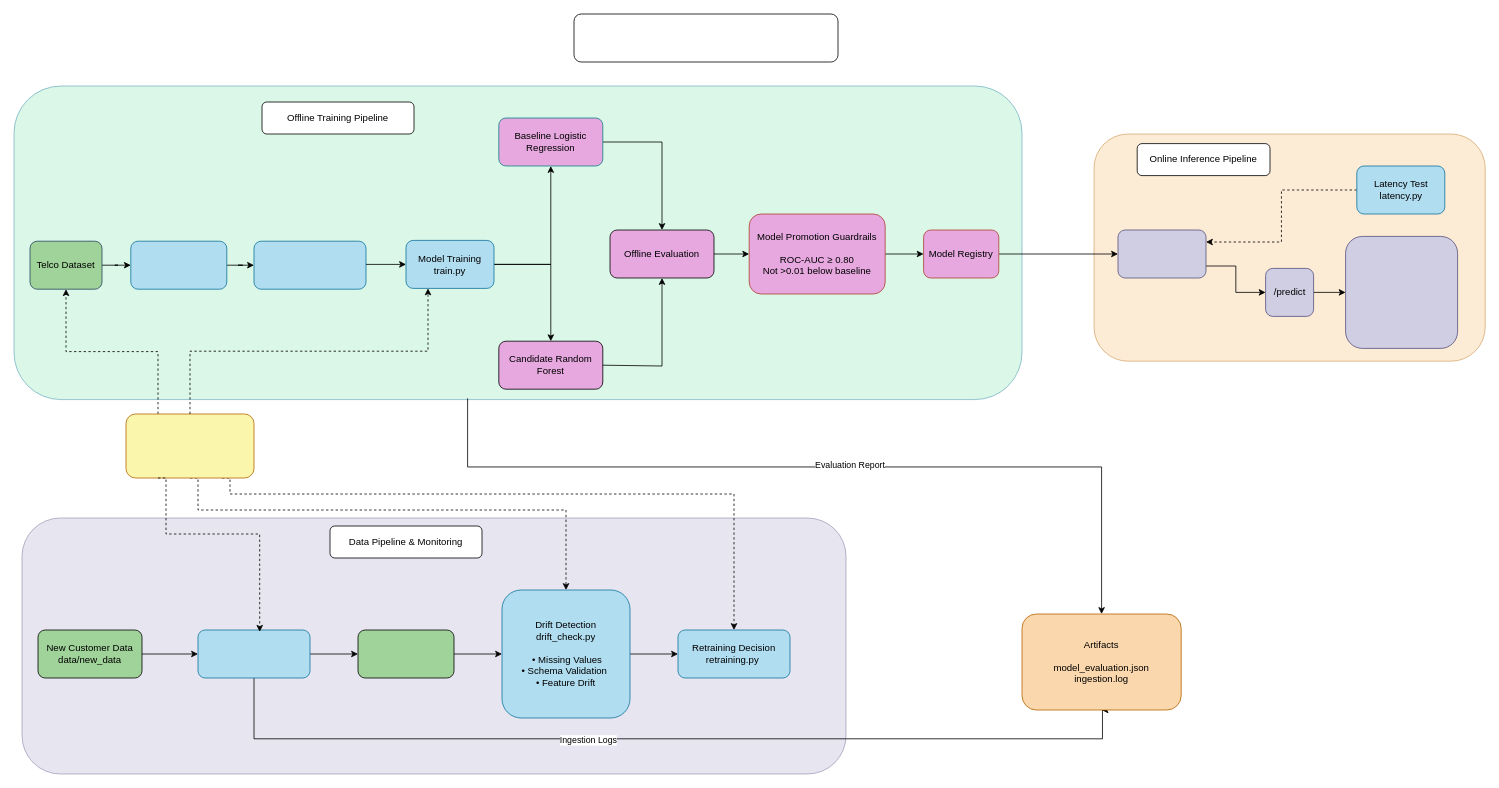
Some shapes in this 1499 by 788 pixel diagram are drawn without their labels. The centre of each missing label's shape, as x and y in pixels:
"Batch Data Ingestion ingestion.py" belongs at pixel 253 653.
"config.yaml" belongs at pixel 189 445.
"Data Preprocessing preprocessing.py" belongs at pixel 178 264.
"FASTAPI Service app.py" belongs at pixel 1161 253.
"Feature Engineering feature_engineering.py" belongs at pixel 309 264.
"Mini Production ML System" belongs at pixel 705 37.
"Prediction Response prediction probability model_version" belongs at pixel 1401 292.
"Processed Dataset data/processed" belongs at pixel 405 653.
